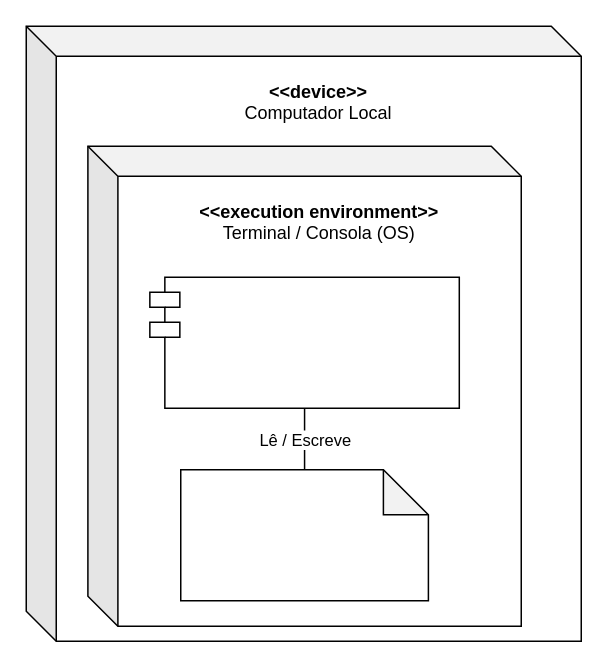
Some shapes in this 608 by 668 pixel diagram are drawn without their labels. The shapes that lost their labels are listed below. From the top down, each one's centre as x and y in pixels, then its label:
[303,342]: <<artifact>> supermercado_app
[303,534]: <<artifact>> Ficheiros de Dados (.csv)
